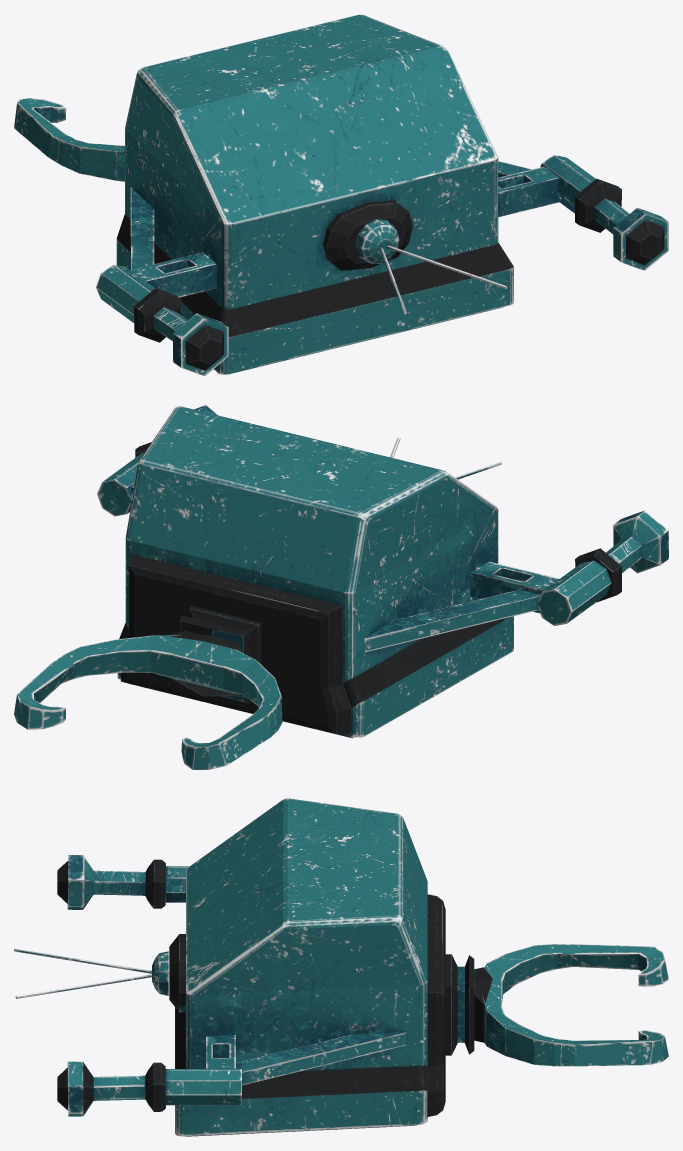
The model's file is TVScared.gltf.
The picture shows the model from 3 angles, top to bottom: view 1: azimuth 30°, elevation 25°; view 2: azimuth 150°, elevation 25°; view 3: azimuth 270°, elevation 25°; orthographic projection. The views are drawn at different scales.
Visible parts, largest first — view 1: Cube.056; view 2: Cube.056; view 3: Cube.056.
Boxes of the visible parts, x1=… form: Cube.056: x1=14, y1=14, x2=668, y2=376; Cube.056: x1=14, y1=405, x2=668, y2=769; Cube.056: x1=14, y1=798, x2=668, y2=1136.
Size of the model in its own units: 1.77 by 0.7649 by 2.15.
Materials: 1 (1 with a texture image).
